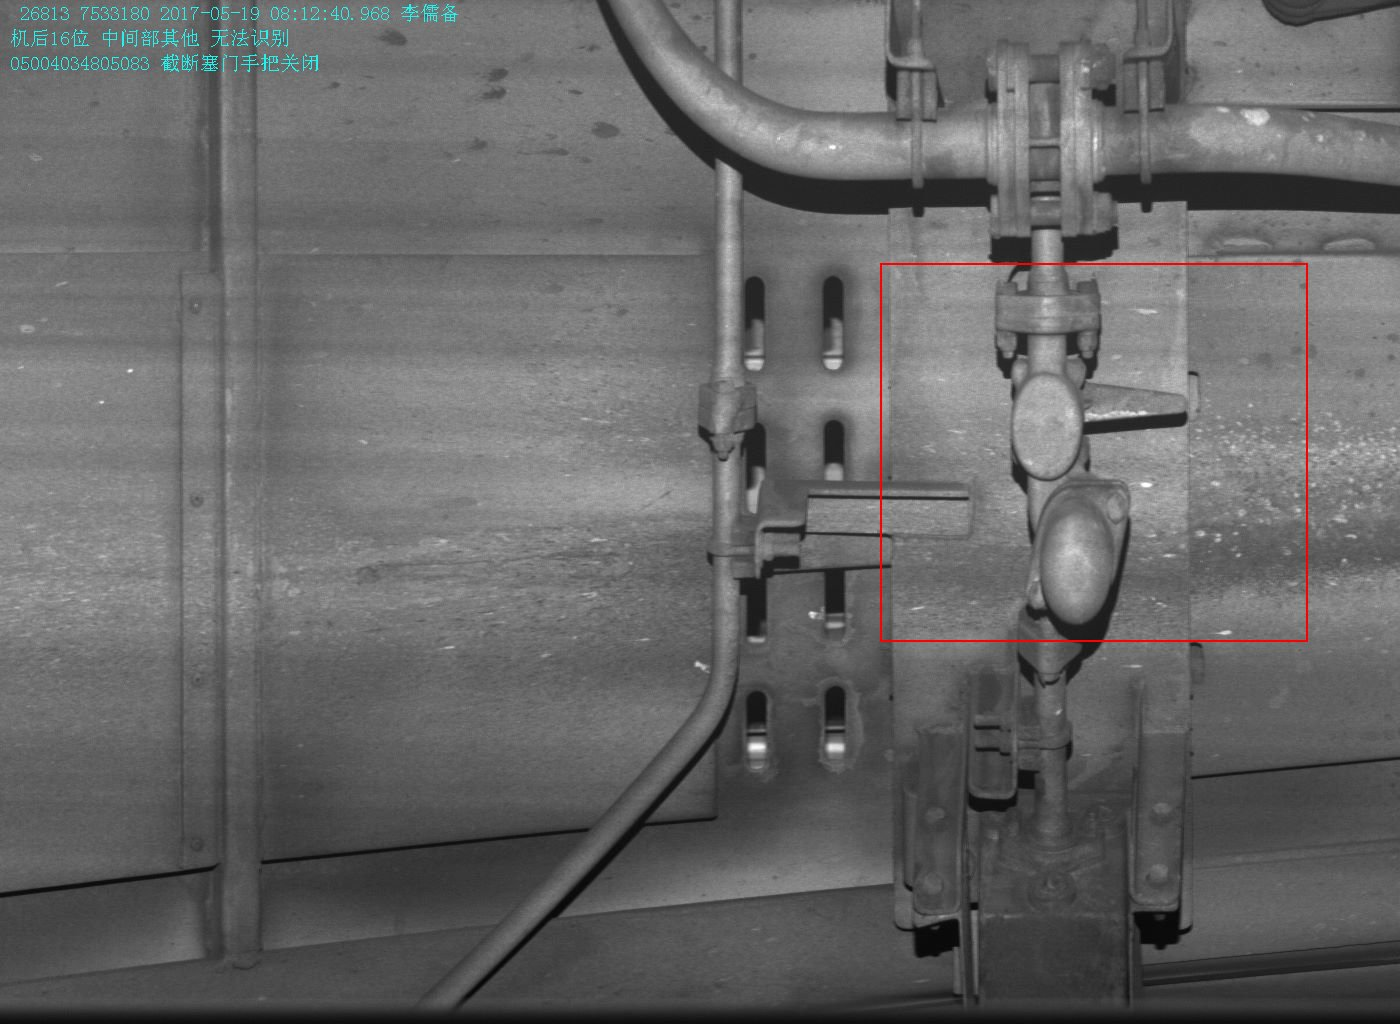truncated plug door handle: (1001, 351, 1191, 480)
